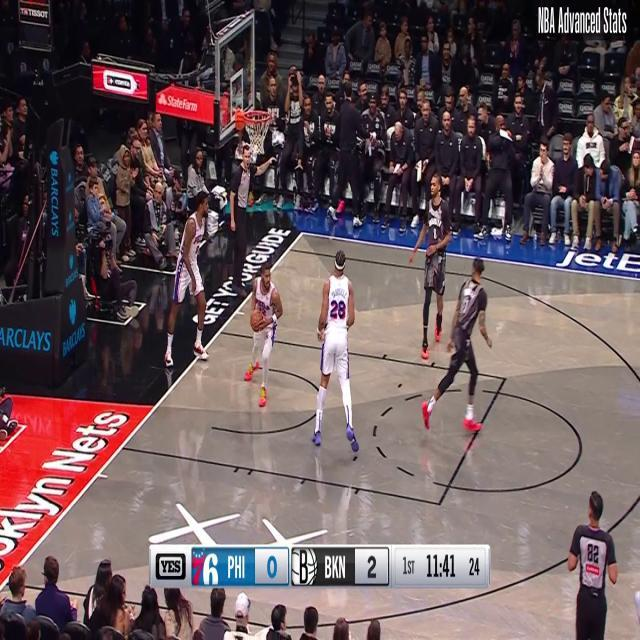ball: (250, 308, 264, 334)
player: (421, 256, 494, 436), (310, 248, 360, 454), (162, 186, 214, 370), (407, 171, 453, 361), (244, 260, 284, 410)
